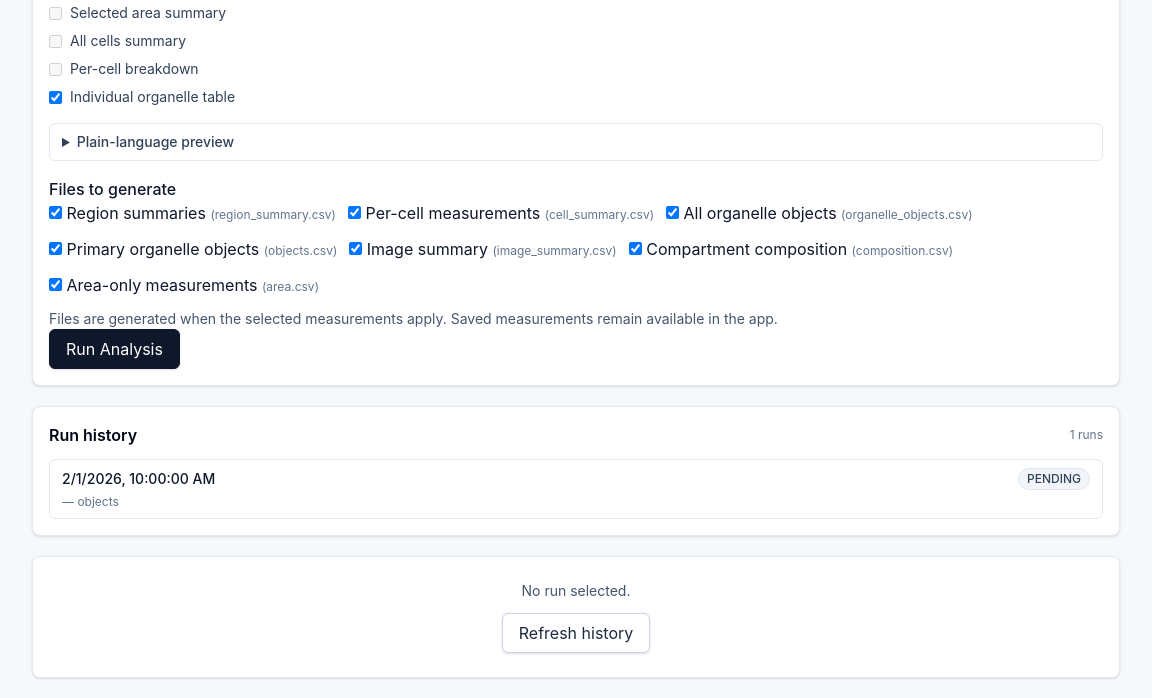
it: AnalysisScreen › shows the live job status beside the job's own message
(page scrolled)
Click the button "Run Analysis": (114, 349) [49,329,180,369]
(page scrolled)
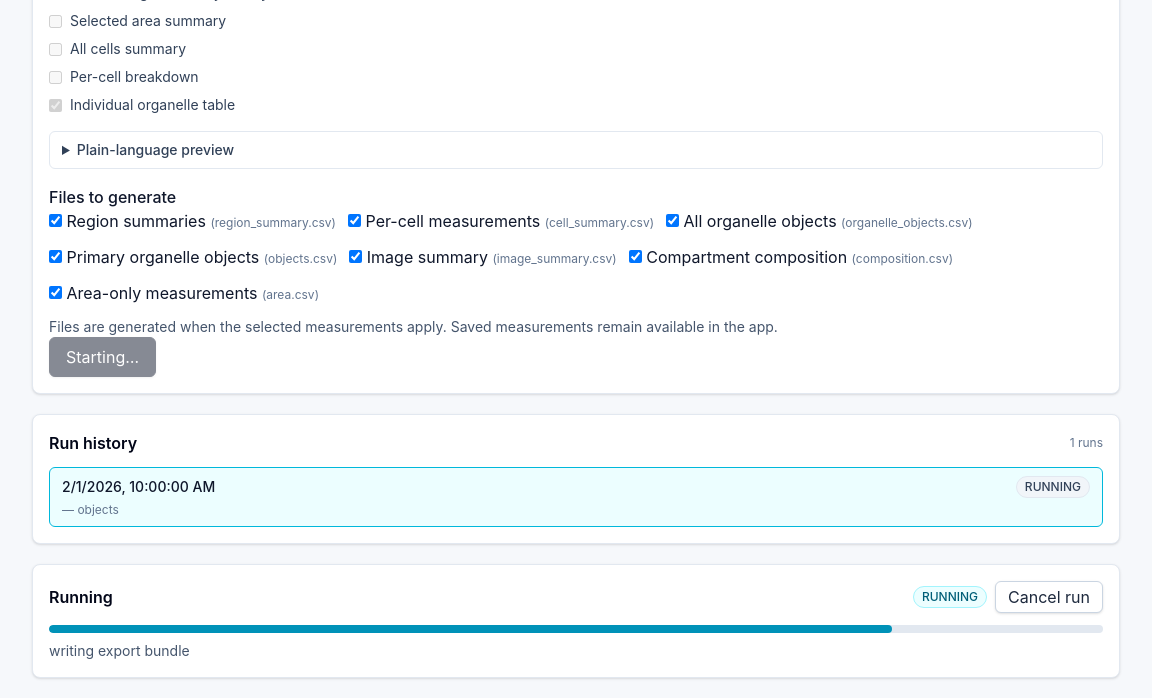
Now the text "writing export bundle" is shown, box [49,642,190,659]
Now the 2nd text "RUNNING" is shown, box [913,586,987,608]
Now the button "PENDING" is gone
